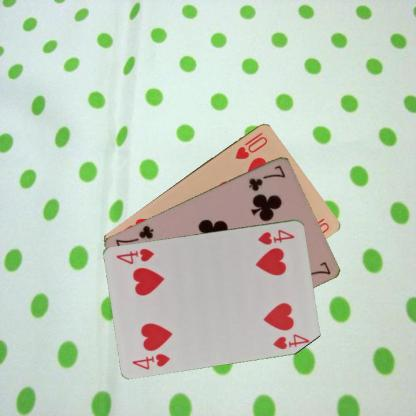10h: (232, 128, 269, 160)
4h: (130, 350, 171, 370), (255, 226, 296, 245)
7c: (245, 162, 287, 192)
